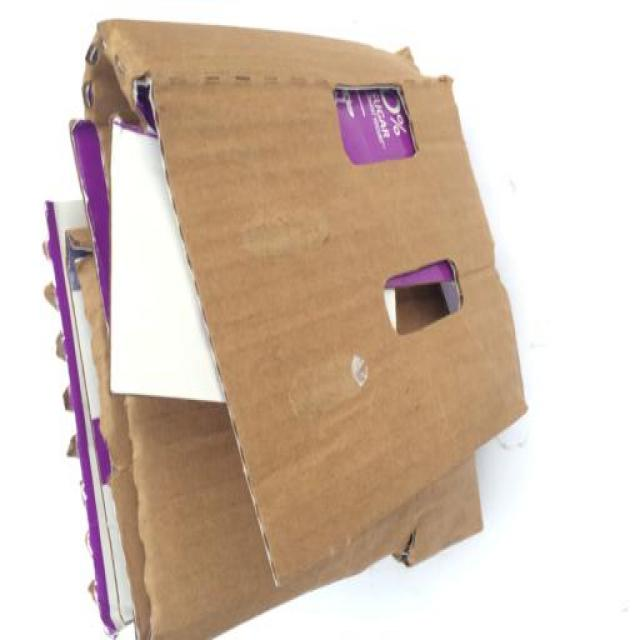cardboard: (33, 7, 602, 640)
